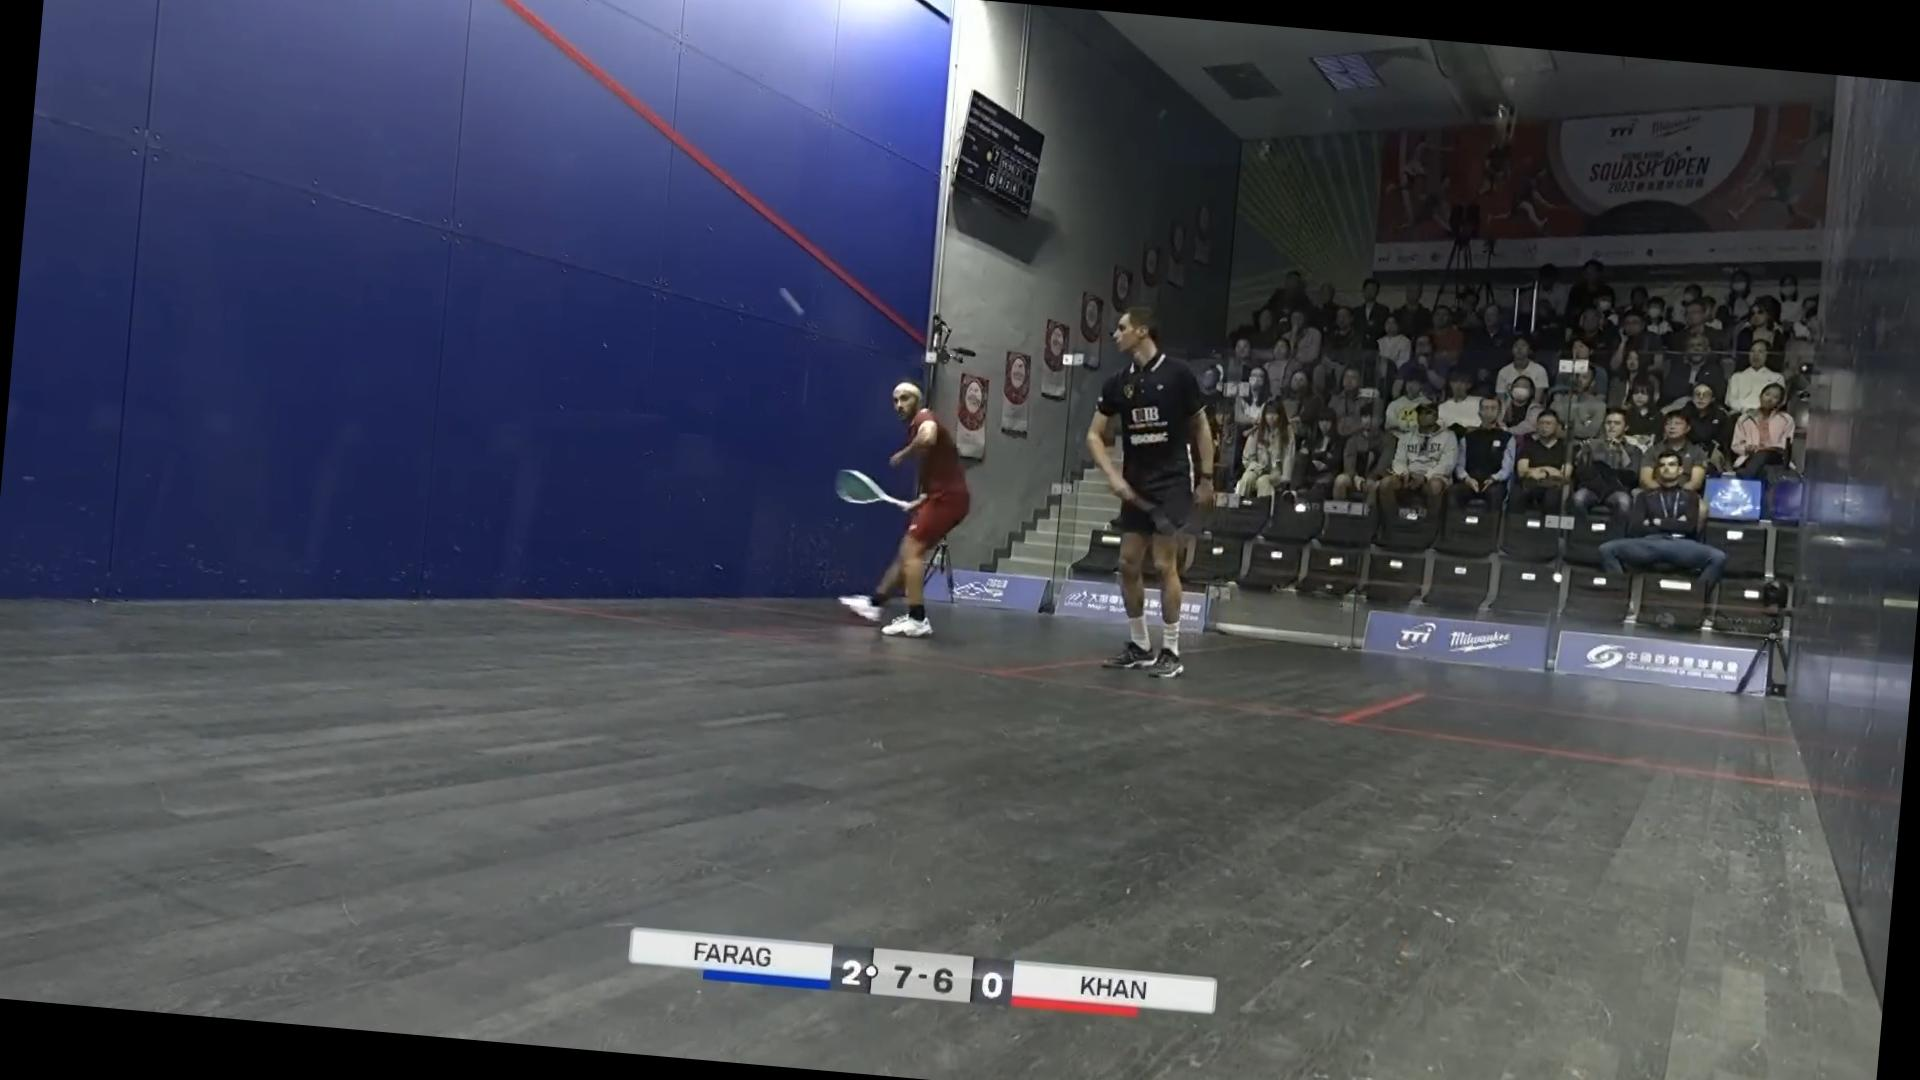Racket: (823, 458, 923, 534)
